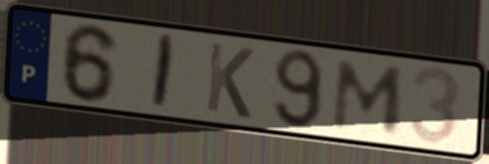3: (407, 65, 468, 149)
6: (60, 21, 119, 106)
9: (270, 46, 330, 132)
I: (148, 31, 180, 113)
K: (202, 39, 257, 123)
M: (327, 56, 409, 137)
